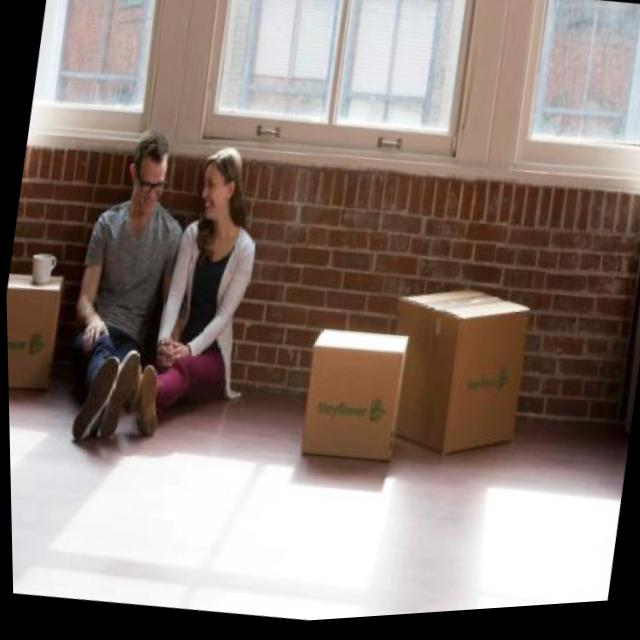box: (364, 266, 546, 512), (282, 302, 429, 514), (4, 246, 72, 438)
